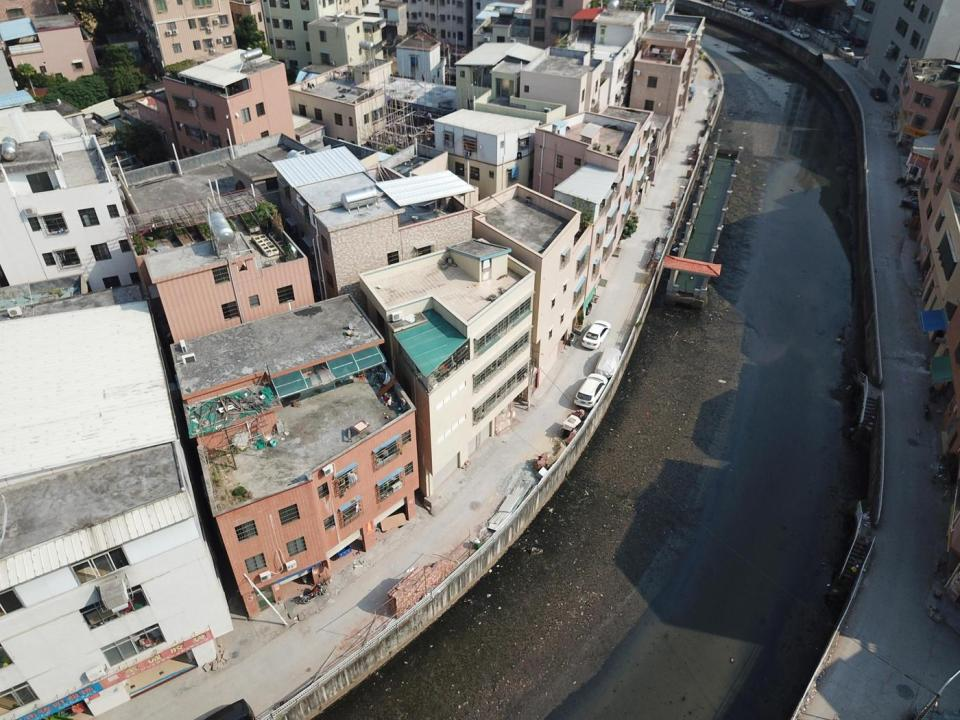car: (573, 373, 608, 409), (581, 320, 611, 350), (594, 348, 622, 378), (901, 194, 928, 210), (907, 182, 931, 197), (870, 86, 888, 101), (789, 28, 811, 39), (836, 46, 856, 58), (756, 12, 774, 25), (738, 7, 754, 19), (771, 19, 788, 30)
van: (724, 1, 738, 12), (712, 0, 724, 8)
